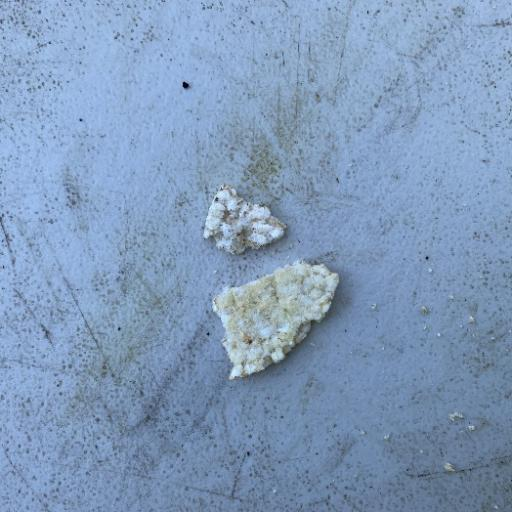Waste: (210, 258, 340, 381), (202, 183, 286, 256)
